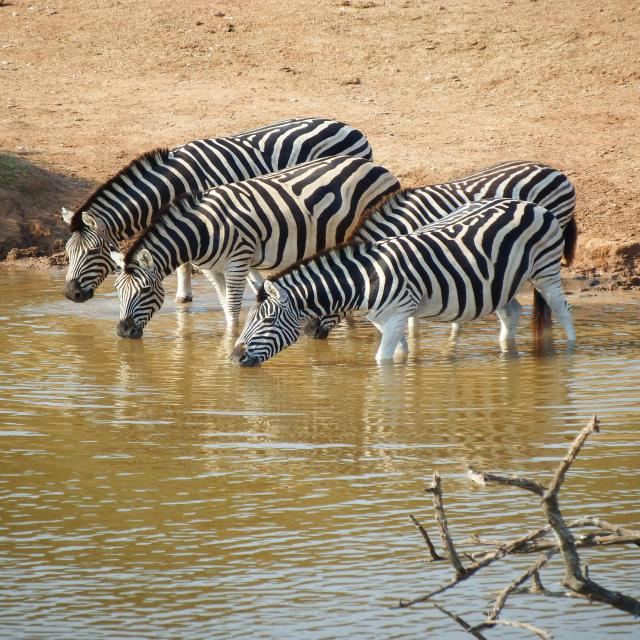Zebra: (60, 115, 374, 303), (230, 198, 579, 366), (110, 154, 403, 338), (303, 160, 577, 341)
